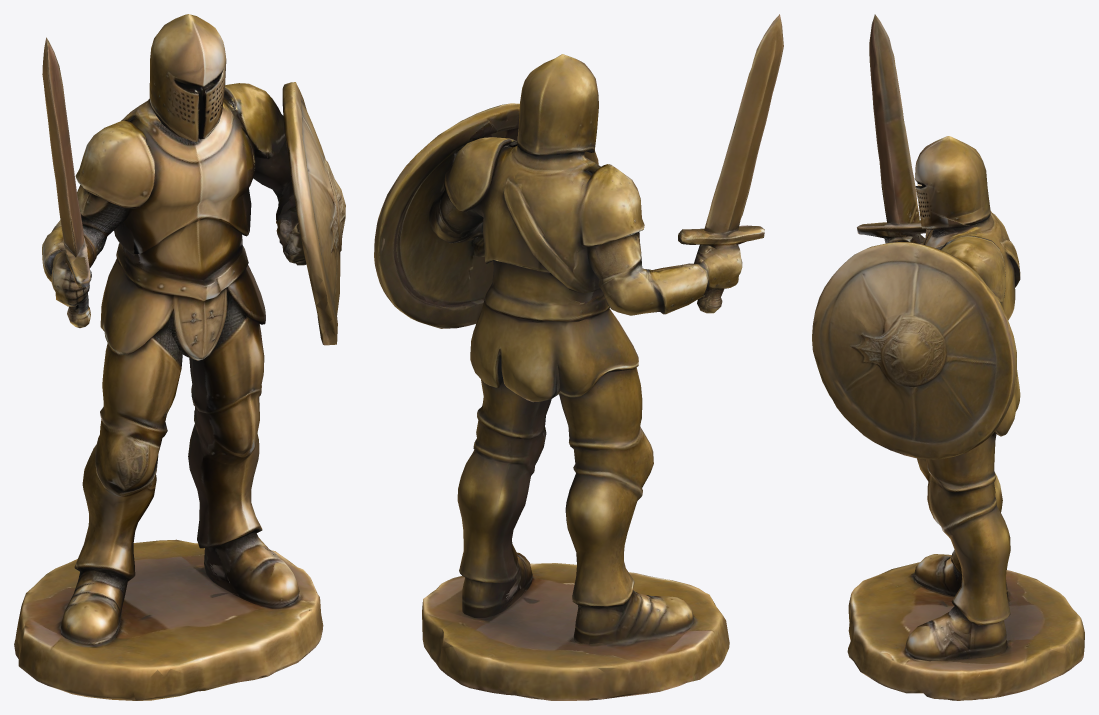
Rendered from obj_statue.glb.
3 views of the same model, side by side, from view 1: azimuth 30°, elevation 25°; view 2: azimuth 150°, elevation 25°; view 3: azimuth 270°, elevation 25° (orthographic). The views are drawn at different scales.
Parts seen in each view (by area): view 1: Statue; view 2: Statue; view 3: Statue.
Part boxes in pixels (x1=…): Statue: x1=14, y1=14, x2=345, y2=700; Statue: x1=374, y1=14, x2=783, y2=700; Statue: x1=812, y1=14, x2=1084, y2=700.
Bounding box in the file's own units: 1.09 × 2 × 0.8839.
Materials: 1 (1 with a texture image).
